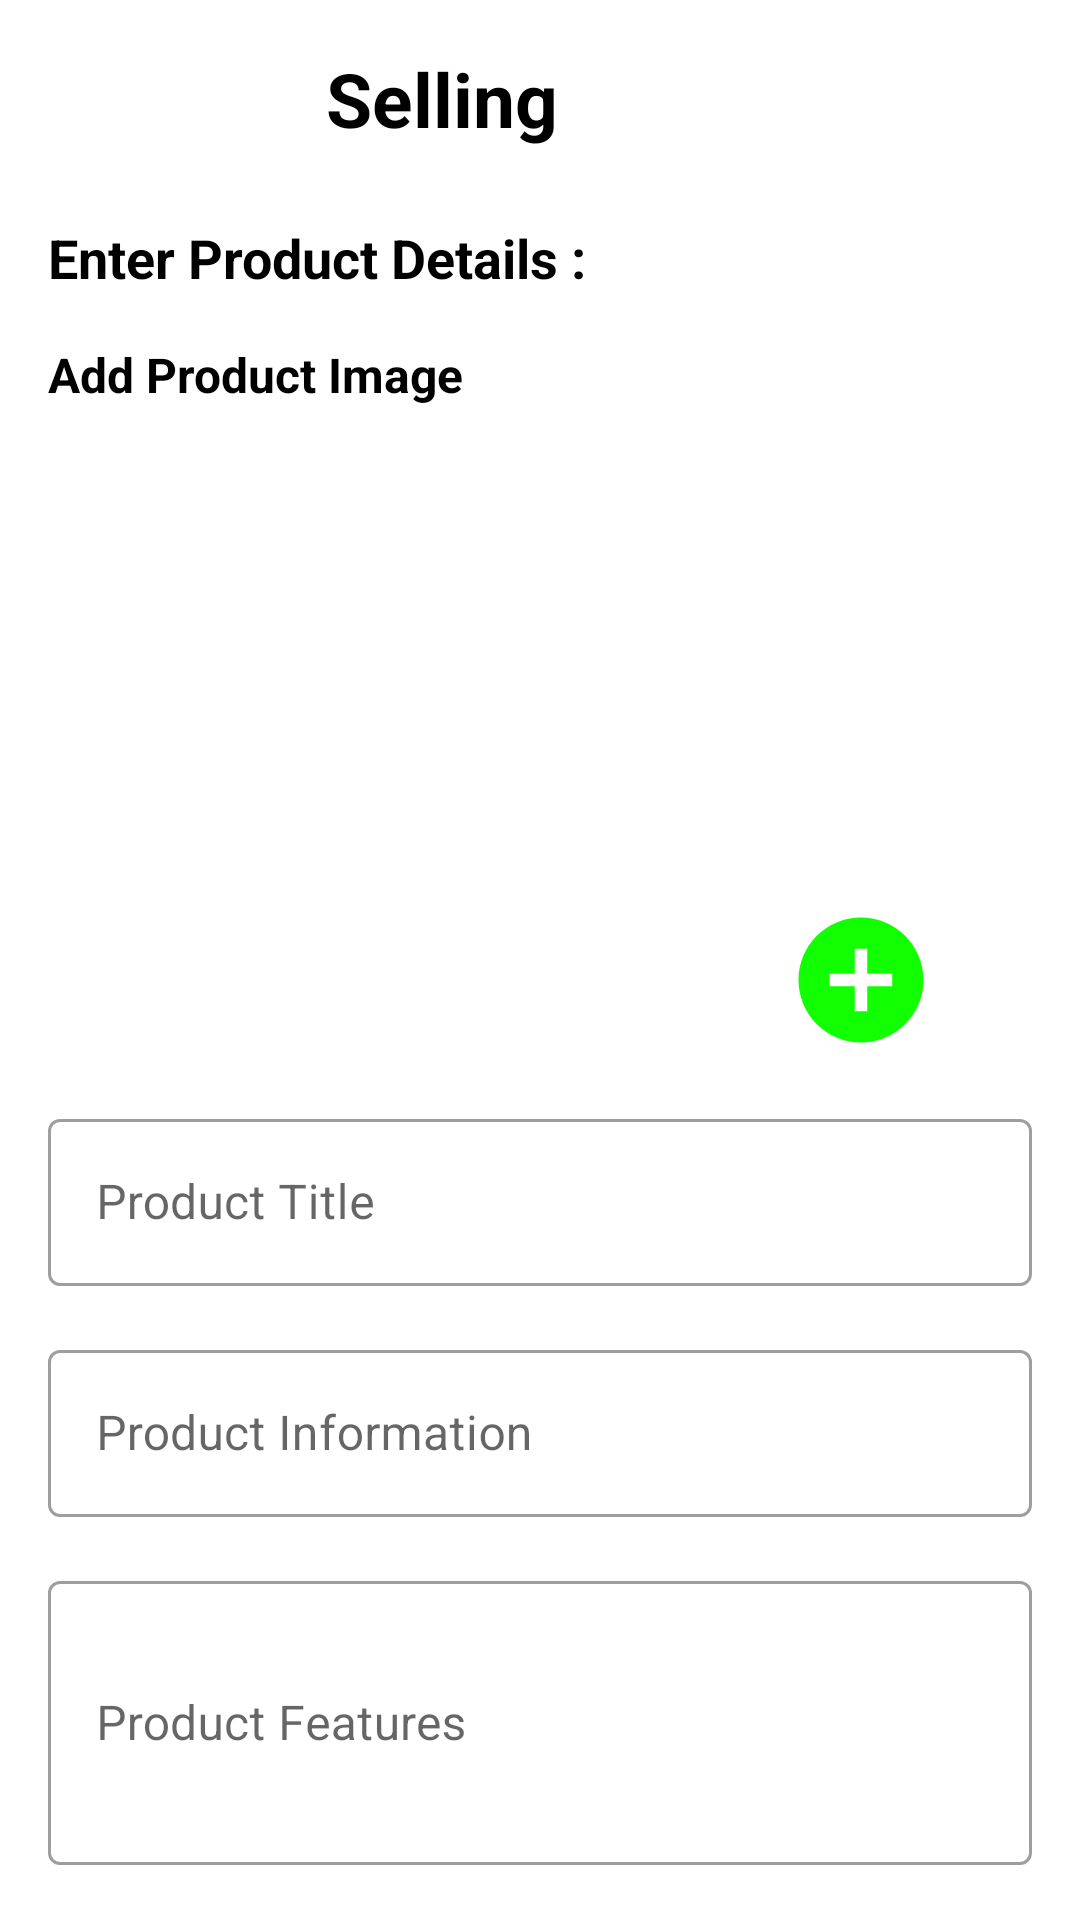

Screen size 1080 × 1920. Icon name, then its box in pixels as [x1,y1,x2,y2]:
add: [798,917,924,1043]
